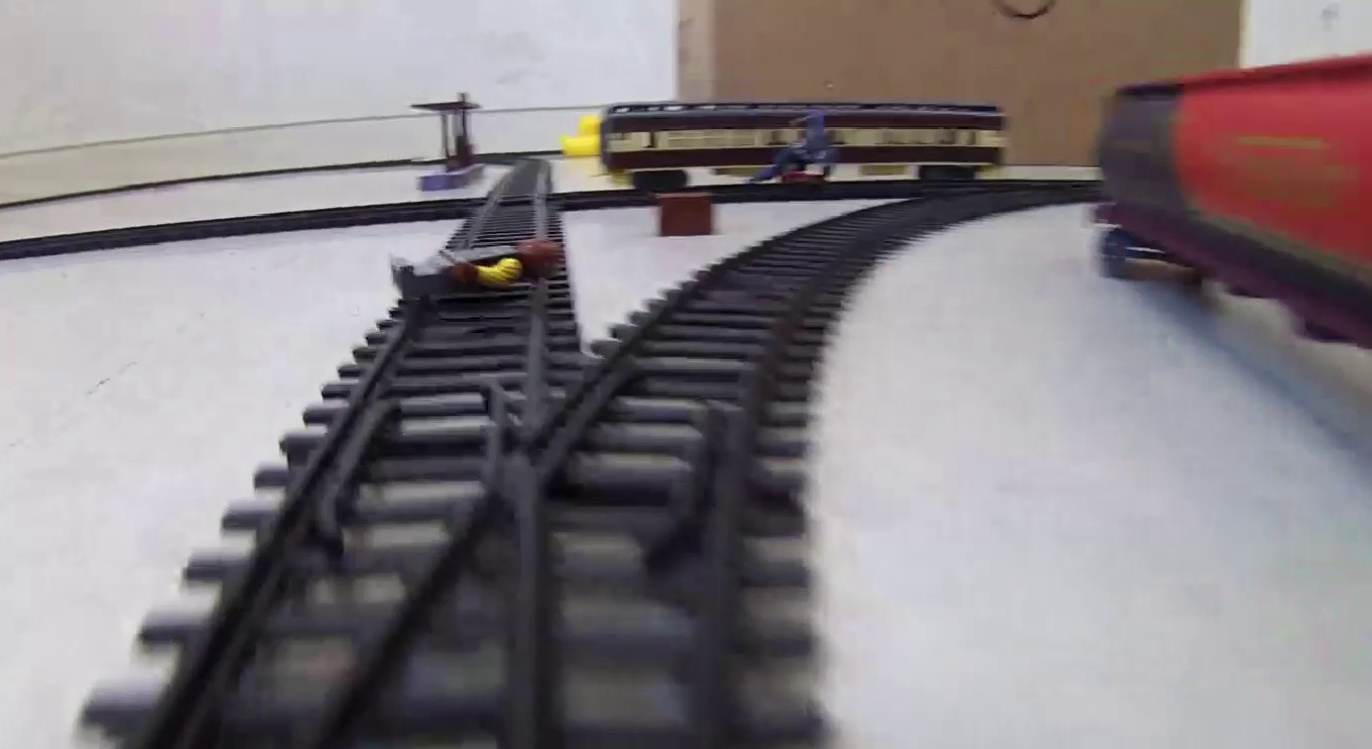box: (657, 187, 717, 243)
people: (392, 237, 568, 301)
